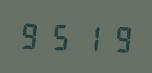five: (46, 18, 73, 52)
nine: (102, 20, 129, 54), (18, 18, 45, 51)
one: (74, 19, 101, 53)
